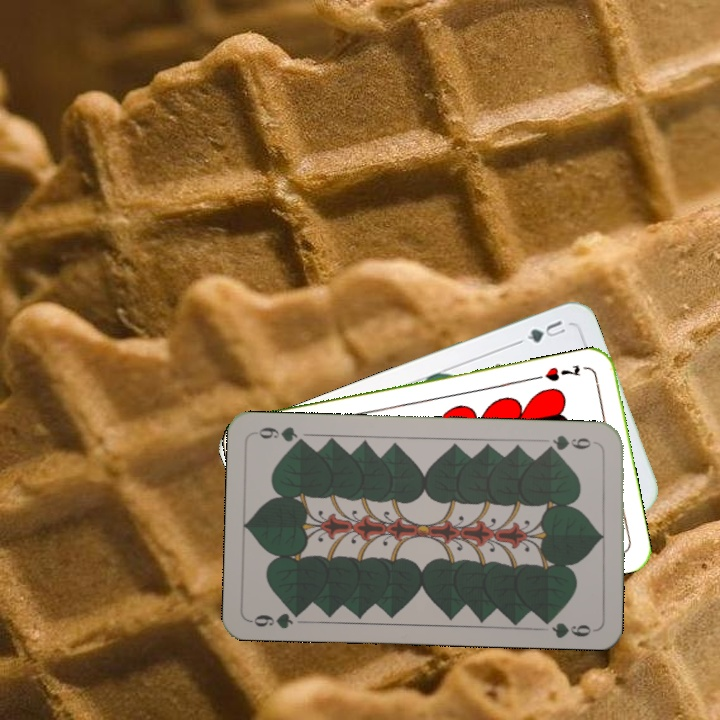G9: (247, 606, 306, 632), (542, 431, 593, 454)
GU: (523, 316, 569, 346)
H7: (540, 360, 583, 384)
